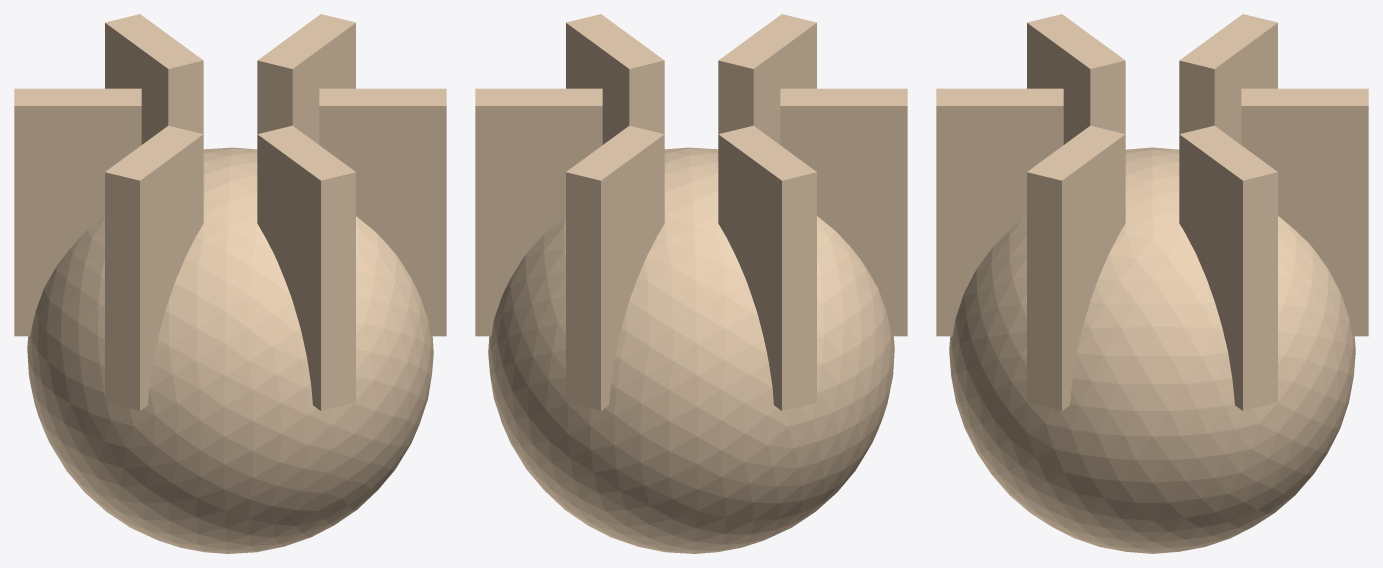
The model's file is nyx-panther.glb.
3 views of the same model, side by side, from view 1: azimuth 30°, elevation 25°; view 2: azimuth 150°, elevation 25°; view 3: azimuth 270°, elevation 25° (orthographic).
Parts seen in each view (by area): view 1: world; view 2: world; view 3: world.
Part boxes in pixels (x1=…): world: x1=14, y1=14, x2=446, y2=553; world: x1=475, y1=14, x2=907, y2=553; world: x1=936, y1=14, x2=1368, y2=553.
Size of the model in its own units: 1.68 by 2 by 1.79.
1 material, 1 textured.
